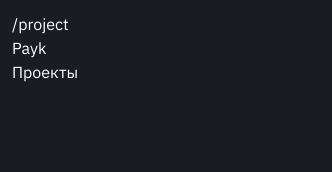
«Назад» — ровно на шаг › пришли не из CRM — стрелка ведёт в родительский раздел
The image size is (332, 172).
Click the link with aria-label "Назад". click: (45, 72)
box: left=12, top=62, right=78, bottom=82
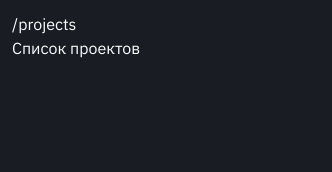
Expected: the text with test id "path" reads "/projects", left=12, top=14, right=76, bottom=34
